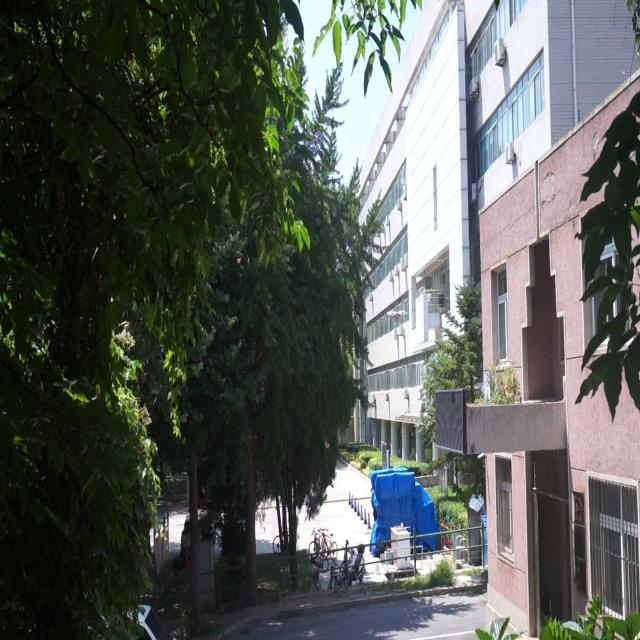drone: (388, 306, 408, 328)
